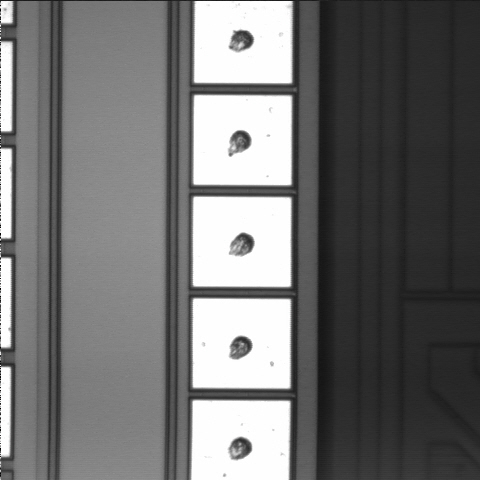pad: (193, 95, 292, 185), (193, 197, 291, 287), (193, 299, 291, 388)
